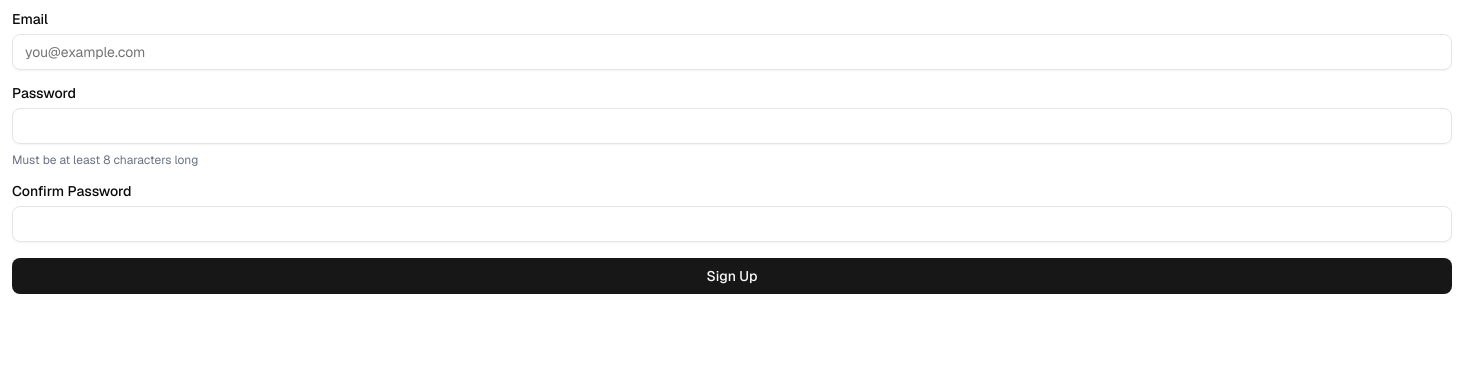
Test case: clears error on new submission
Type "new@example.com" into the field labelled "Email" at coordinates (732, 52), box [12,34,1452,70]
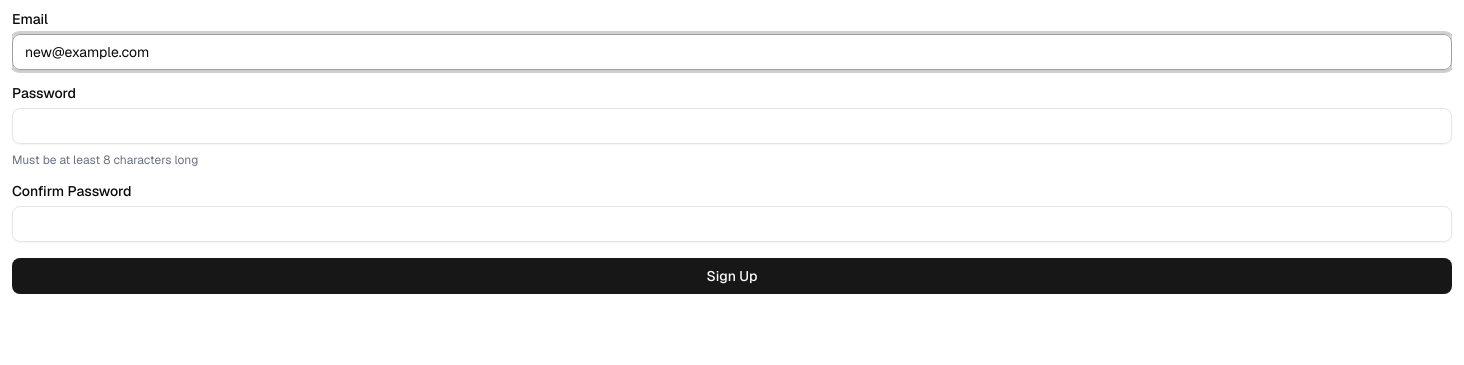
Type "password123" into the password field labelled "Password" at coordinates (732, 126), box [12,108,1452,144]
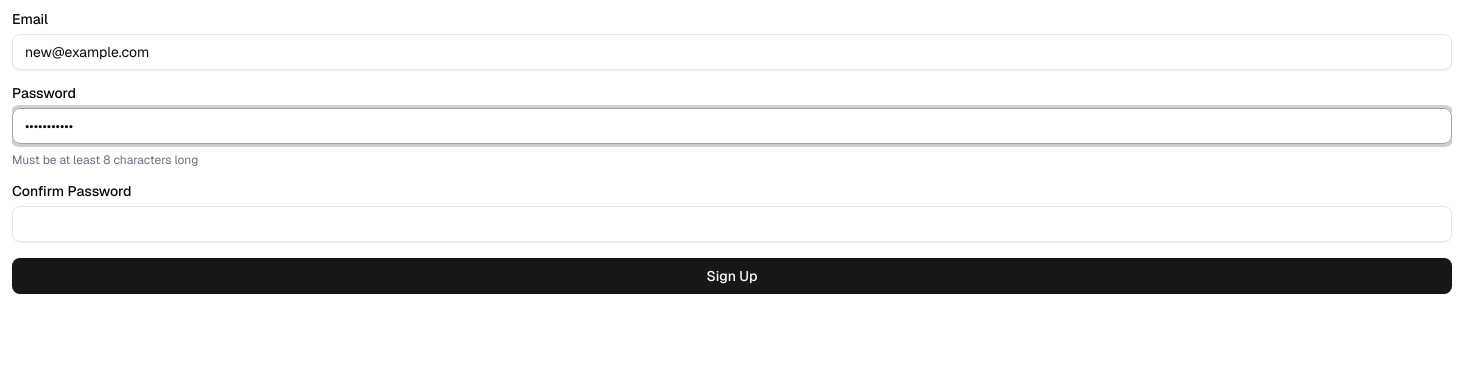
Type "password123" into the password field labelled "Confirm Password" at coordinates (732, 224), box [12,206,1452,242]
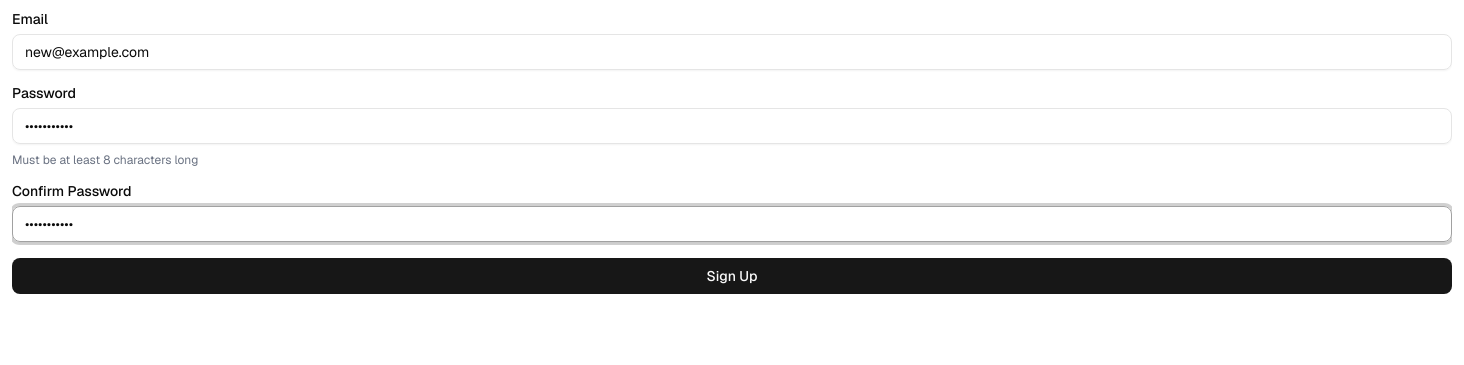
Submit the form "Sign Up"
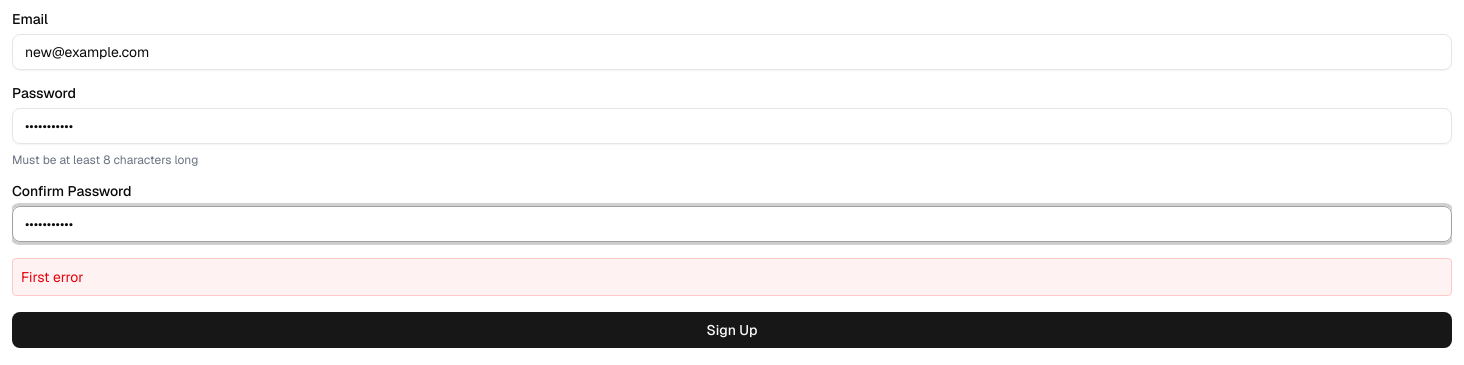
Expected: the text "First error" is shown, [12,258,1452,296]
Submit the form named "Sign Up"
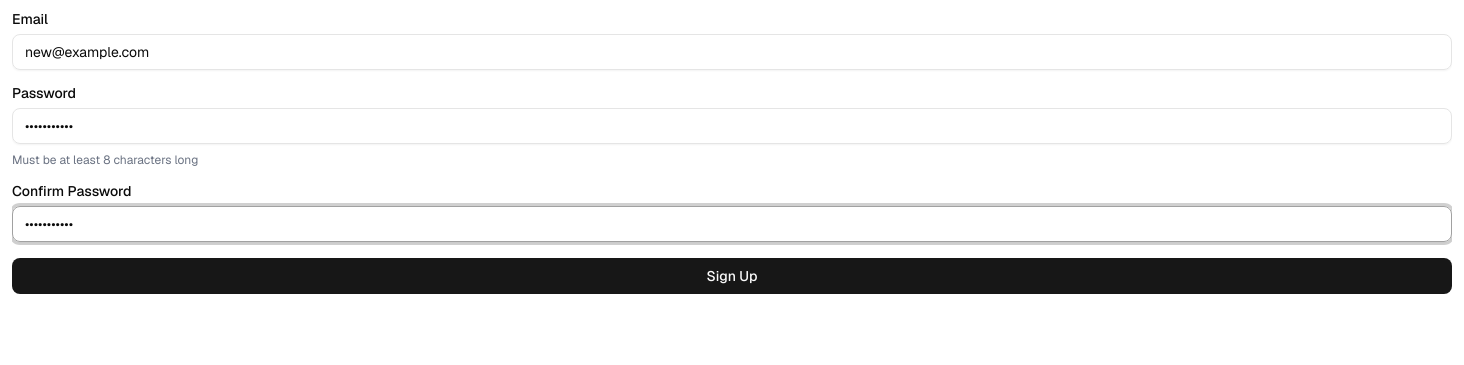
Expected: the text "First error" is gone
